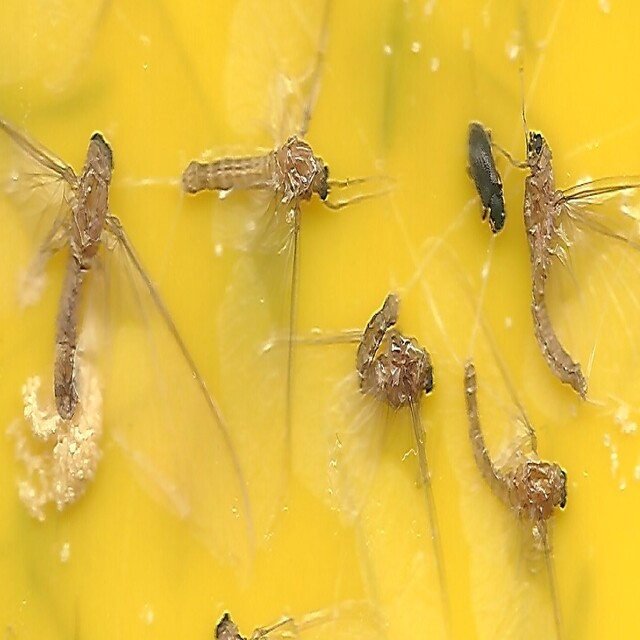Coleoptera: (464, 117, 506, 242)
Ephemeroptera: (521, 126, 590, 417), (50, 127, 115, 428), (461, 357, 568, 523), (179, 138, 330, 211), (355, 291, 436, 419)
